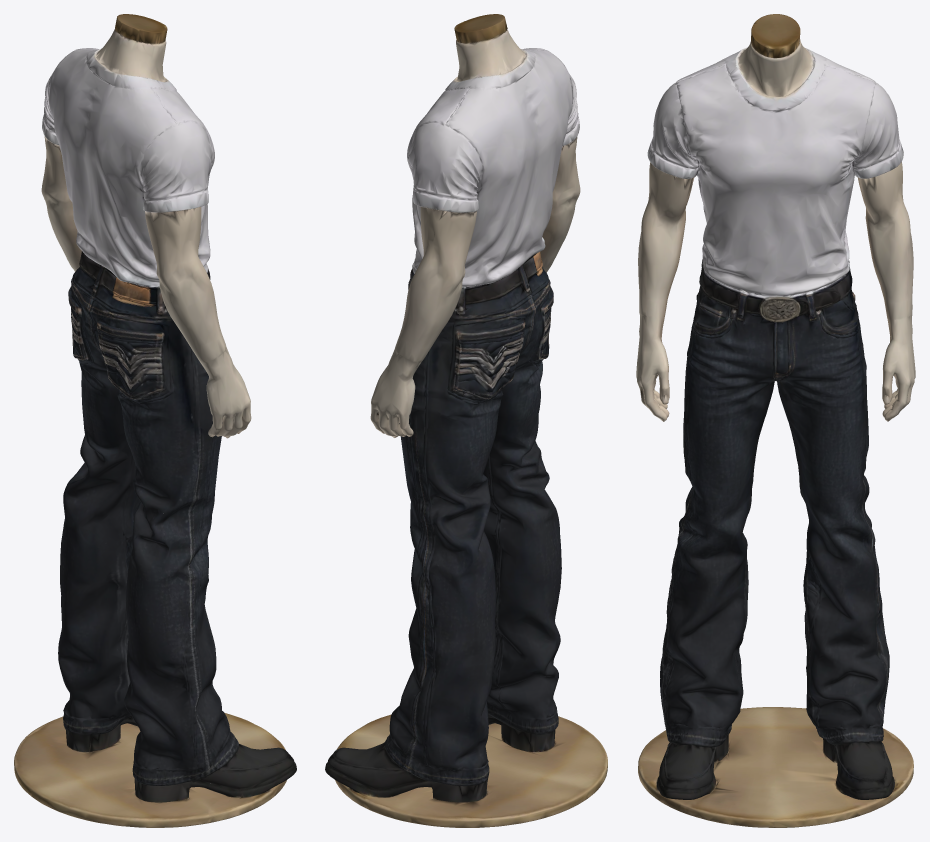
The model's file is vdm07.glb.
3 views of the same model, side by side, from view 1: azimuth 30°, elevation 25°; view 2: azimuth 150°, elevation 25°; view 3: azimuth 270°, elevation 25° (orthographic).
Parts seen in each view (by area): view 1: tripo_node_ffc4f191-2636-47b3-9453-199ba75729cb; view 2: tripo_node_ffc4f191-2636-47b3-9453-199ba75729cb; view 3: tripo_node_ffc4f191-2636-47b3-9453-199ba75729cb.
Part boxes in pixels (bbox=[...]): tripo_node_ffc4f191-2636-47b3-9453-199ba75729cb: bbox=[14, 14, 296, 827]; tripo_node_ffc4f191-2636-47b3-9453-199ba75729cb: bbox=[325, 14, 607, 827]; tripo_node_ffc4f191-2636-47b3-9453-199ba75729cb: bbox=[636, 14, 915, 827].
Bounding box in the file's own units: 0.3218 × 0.9788 × 0.334.
Materials: 1 (1 with a texture image).
